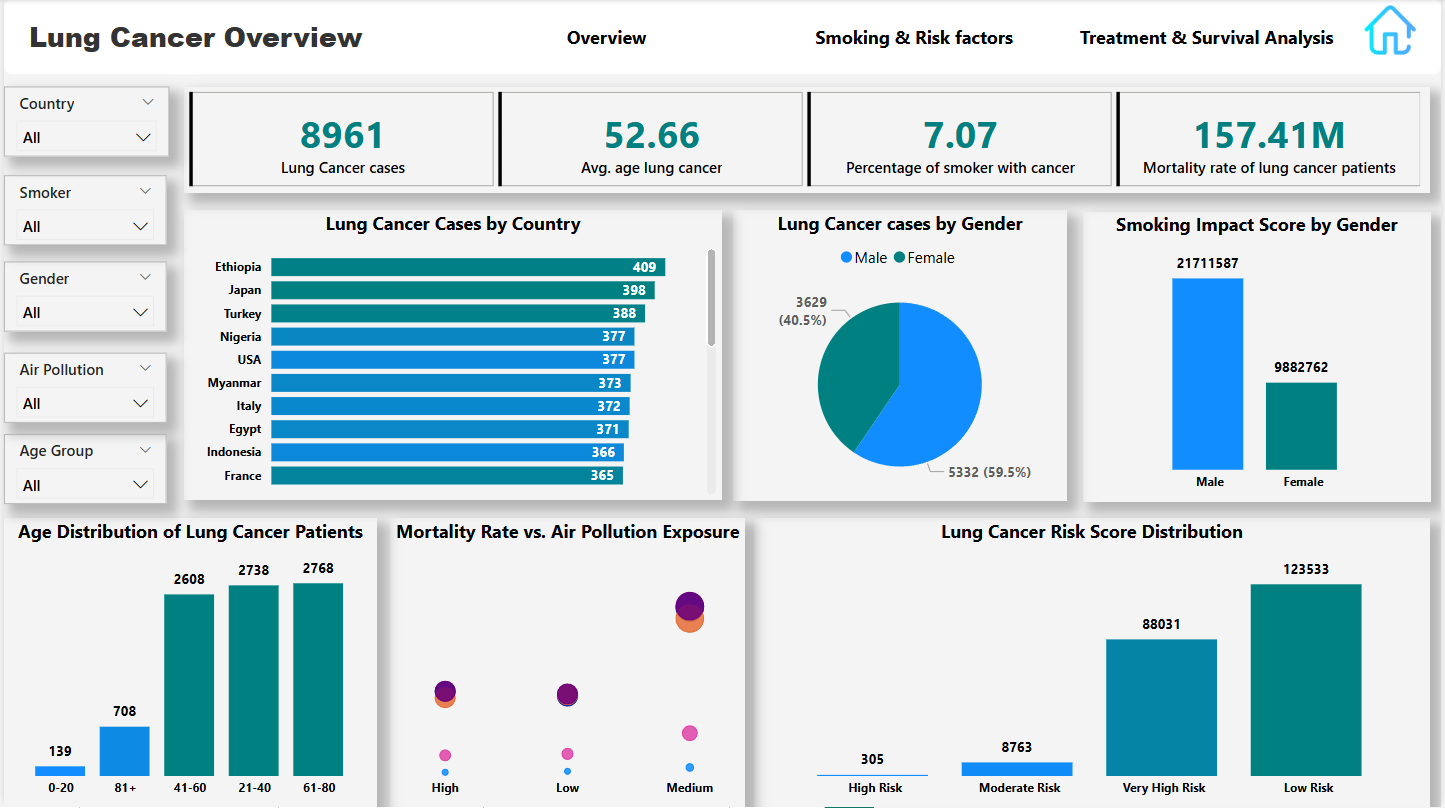

The page's visual inventory and layout, read from the dashboard file:
{"tool":"powerbi","page":{"name":"Lung cancer overview","canvas":[1280,720],"ordinal":1},"visuals":[{"type":"cardVisual","fields":{"Data":["_Measures.Total Lung Cancer cases","_Measures.Avg age lung cancer","_Measures.% smoker with cancer","_Measures.Mortality rate of lung cancer"]},"box":[160.5,78.4,1109.9,94.1],"z":0},{"type":"shape","box":[0,0,1280,67.6],"z":1000},{"type":"textbox","box":[8.4,10.9,323.3,44.6],"z":2000},{"type":"slicer","fields":{"Values":["lung_cancer_Dataset.Country"]},"box":[0,78.4,147.2,62.7],"z":3000},{"type":"slicer","fields":{"Values":["lung_cancer_Dataset.Smoker"]},"box":[0,156.8,144.8,62.7],"z":4000},{"type":"slicer","fields":{"Values":["lung_cancer_Dataset.Gender"]},"box":[0,234,144.8,62.7],"z":5000},{"type":"slicer","fields":{"Values":["lung_cancer_Dataset.Air_Pollution_Exposure"]},"box":[0,314.9,144.8,62.7],"z":6000},{"type":"slicer","fields":{"Values":["lung_cancer_Dataset.Age Group"]},"box":[0,387.3,144.8,62.7],"z":7000},{"type":"actionButton","box":[412.6,10.9,247.3,44.6],"z":8000},{"type":"actionButton","box":[686.5,10.9,247.3,44.6],"z":9000},{"type":"actionButton","box":[947.1,10.9,247.3,44.6],"z":10000},{"type":"clusteredBarChart","fields":{"Category":["lung_cancer_Dataset.Country"],"Y":["_Measures.Total Lung Cancer cases"]},"box":[160.5,188.2,479,258.2],"z":11000},{"type":"pieChart","title":" Lung Cancer cases by Gender","fields":{"Category":["lung_cancer_Dataset.Gender"],"Y":["_Measures.Total Lung Cancer cases"]},"box":[649.1,188.2,298,259.4],"z":12000},{"type":"clusteredColumnChart","title":"Age Distribution of Lung Cancer Patients","fields":{"Y":["_Measures.Total Lung Cancer cases"],"Category":["lung_cancer_Dataset.Age Group"]},"box":[0,462.1,331.8,258.2],"z":13000},{"type":"clusteredColumnChart","title":"Smoking Impact Score by Gender","fields":{"Category":["lung_cancer_Dataset.Gender"],"Y":["Sum(lung_cancer_Dataset.Smoking Impact Score)"]},"box":[960.3,189.4,310.1,258.2],"z":14000},{"type":"scatterChart","title":"Mortality Rate vs. Air Pollution Exposure ","fields":{"X":["lung_cancer_Dataset.Air_Pollution_Exposure"],"Y":["Sum(lung_cancer_Dataset.Mortality_Rate)"],"Size":["_Measures.Total patients"],"Series":["lung_cancer_Dataset.Age Group"]},"box":[343.8,462.1,316.1,258.2],"z":15000},{"type":"clusteredColumnChart","title":"Lung Cancer Risk Score Distribution","fields":{"Y":["_Measures.Total patients"],"Category":["lung_cancer_Dataset.Risk_Category"]},"box":[668.4,462.1,602,258.2],"z":16000},{"type":"image","box":[1199.2,0,71.2,55.5],"z":17000}]}

Visuals, with their boxes in screenshot pixels (x1, y1, x2, y2), scaled from the page's 1280x720 canvas onto the 1445x808 screenshot:
cardVisual - _Measures.Total Lung Cancer cases x _Measures.Avg age lung cancer: (x1=181, y1=88, x2=1434, y2=194)
shape: (x1=0, y1=0, x2=1444, y2=76)
textbox: (x1=9, y1=12, x2=374, y2=62)
slicer - lung_cancer_Dataset.Country: (x1=0, y1=88, x2=166, y2=158)
slicer - lung_cancer_Dataset.Smoker: (x1=0, y1=176, x2=163, y2=246)
slicer - lung_cancer_Dataset.Gender: (x1=0, y1=263, x2=163, y2=333)
slicer - lung_cancer_Dataset.Air_Pollution_Exposure: (x1=0, y1=353, x2=163, y2=424)
slicer - lung_cancer_Dataset.Age Group: (x1=0, y1=435, x2=163, y2=505)
actionButton: (x1=466, y1=12, x2=745, y2=62)
actionButton: (x1=775, y1=12, x2=1054, y2=62)
actionButton: (x1=1069, y1=12, x2=1348, y2=62)
clusteredBarChart - lung_cancer_Dataset.Country x _Measures.Total Lung Cancer cases: (x1=181, y1=211, x2=722, y2=501)
" Lung Cancer cases by Gender" pieChart: (x1=733, y1=211, x2=1069, y2=502)
"Age Distribution of Lung Cancer Patients" clusteredColumnChart: (x1=0, y1=519, x2=375, y2=807)
"Smoking Impact Score by Gender" clusteredColumnChart: (x1=1084, y1=213, x2=1434, y2=502)
"Mortality Rate vs. Air Pollution Exposure " scatterChart: (x1=388, y1=519, x2=745, y2=807)
"Lung Cancer Risk Score Distribution" clusteredColumnChart: (x1=755, y1=519, x2=1434, y2=807)
image: (x1=1354, y1=0, x2=1434, y2=62)
